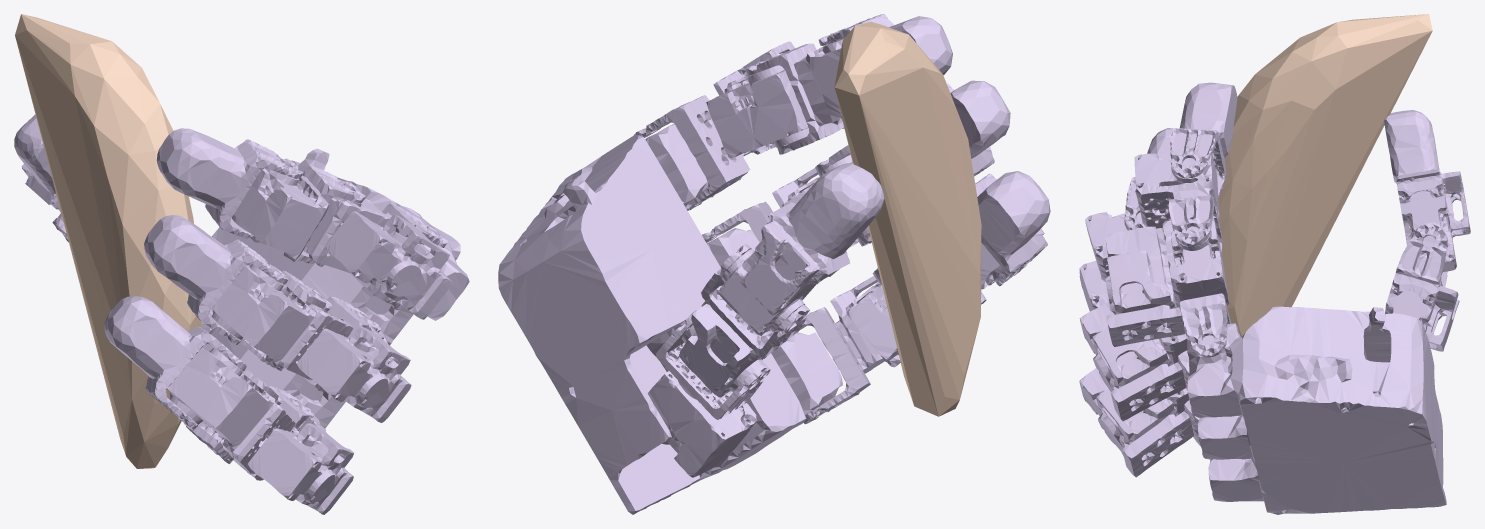
The picture shows the model from 3 angles, left to right: view 1: azimuth 30°, elevation 25°; view 2: azimuth 150°, elevation 25°; view 3: azimuth 270°, elevation 25°; orthographic projection. The views are drawn at different scales.
Parts seen in each view (by area): view 1: LEAP_hand, world; view 2: LEAP_hand, world; view 3: LEAP_hand, world.
Boxes of the visible parts, <box> form: LEAP_hand: <box>14,114,469,514</box>; world: <box>15,14,201,468</box>; LEAP_hand: <box>498,14,1050,514</box>; world: <box>834,21,981,416</box>; LEAP_hand: <box>1079,82,1470,514</box>; world: <box>1218,14,1432,337</box>.
Size of the model in its own units: 0.185 by 0.2053 by 0.1729.
